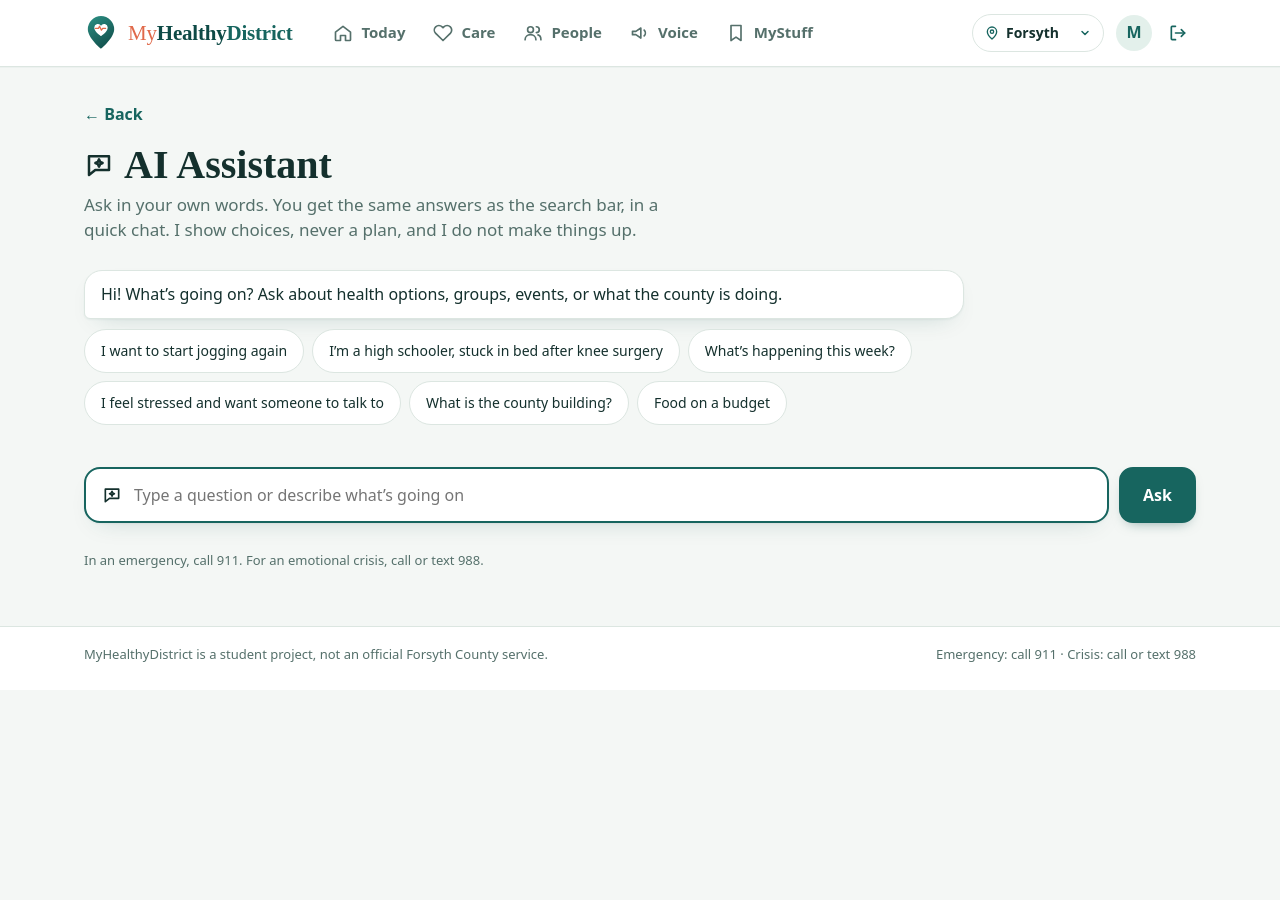
Test: AI Assistant answers › shows the same topic cards as the search results page, and nothing extra like school or other resources
The image size is (1280, 900).
Click the button "I want to start jogging again" at (194, 352), box top-left (84, 330), bottom-right (304, 374)
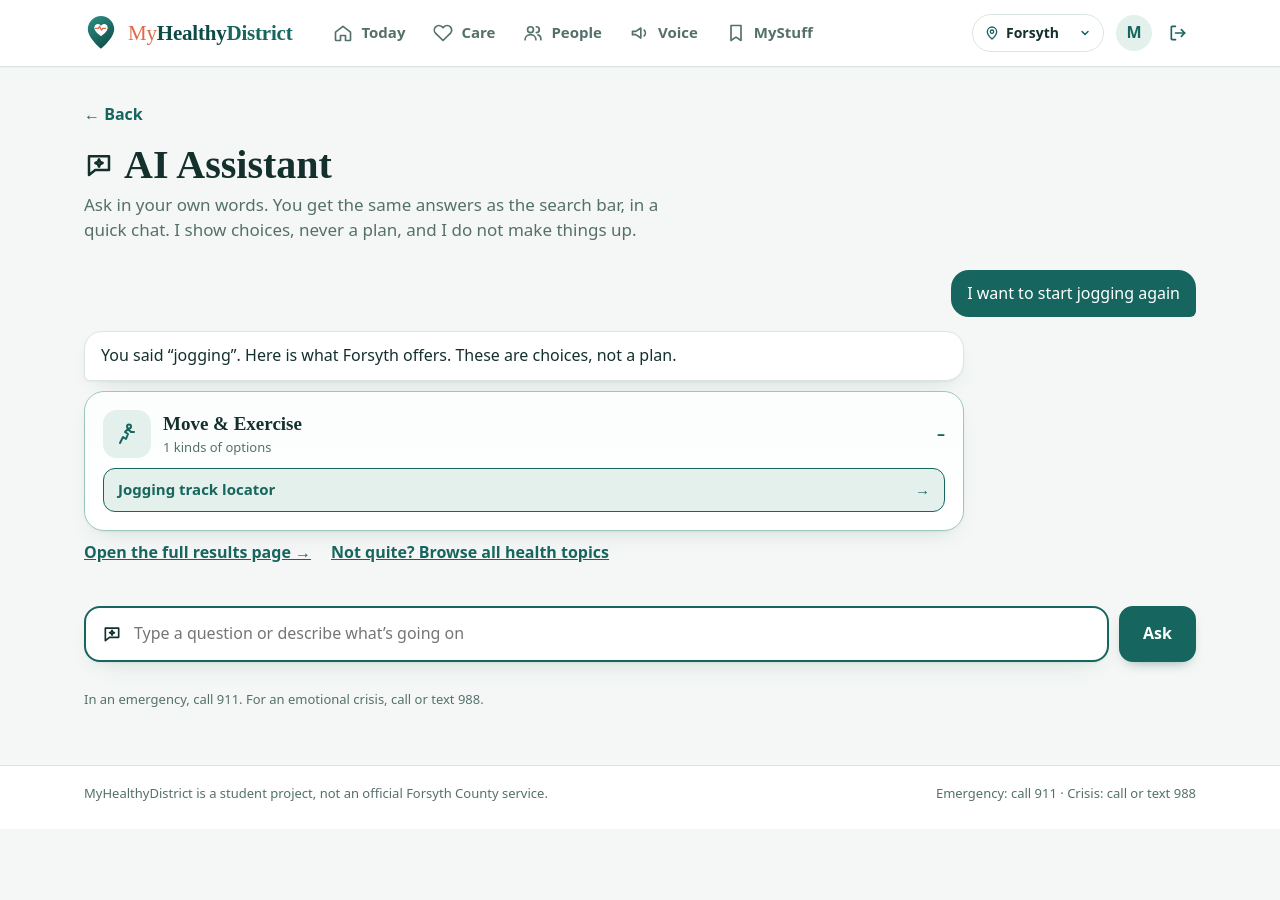
Now the text "You said “jogging”" is shown, box top-left (101, 344), bottom-right (676, 366)
Now the link "Jogging track locator →" is shown, box top-left (103, 468), bottom-right (945, 512)
